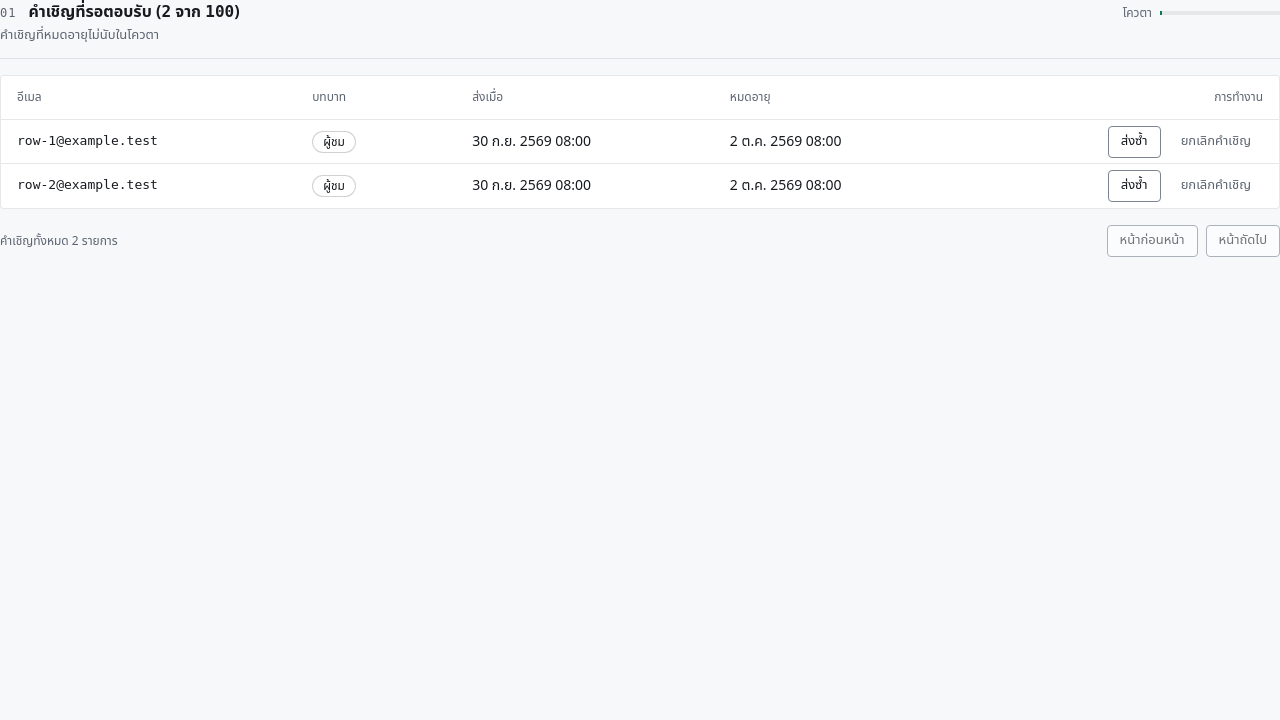
Scenario: invitation cancel › shows no success or notice when the DELETE succeeds and the refetch fails, and focuses the heading
Click the button "ยกเลิกคำเชิญ" in the row of "row-1@example.test": (1216, 142) [1169,126,1263,158]
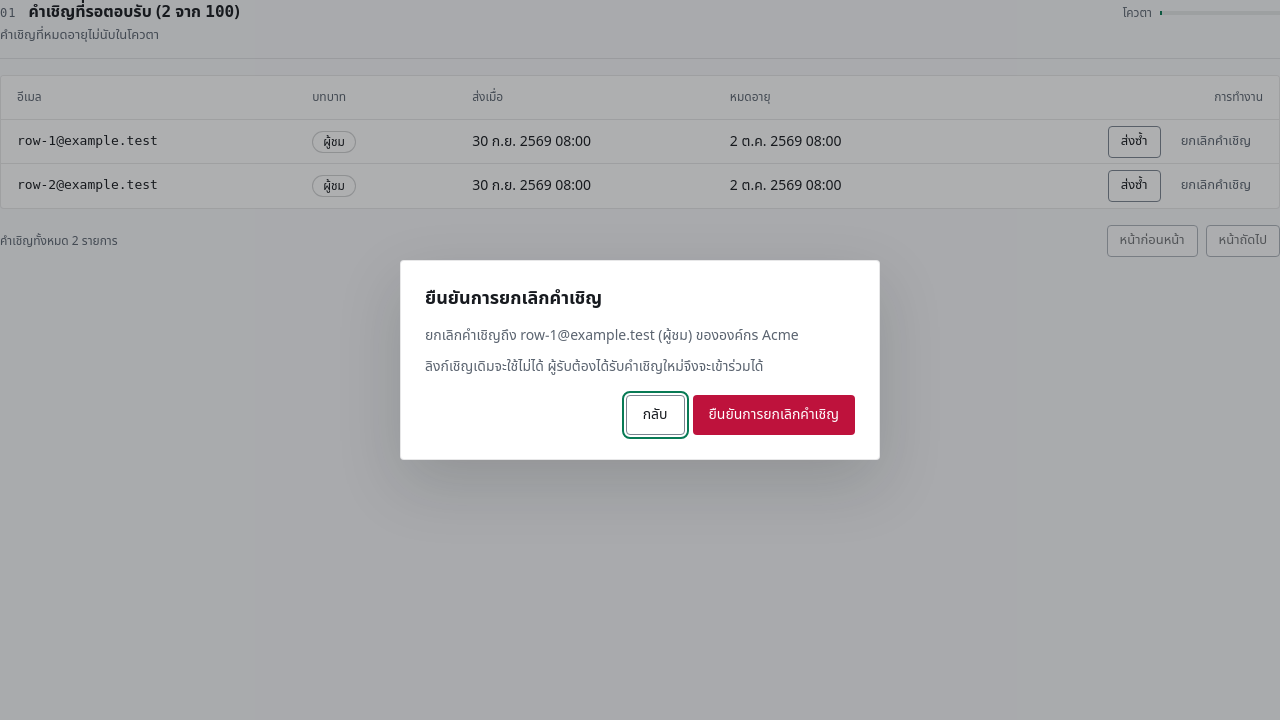
Click the button with test id "invitation-cancel-confirm": (774, 415) [692,395,855,435]
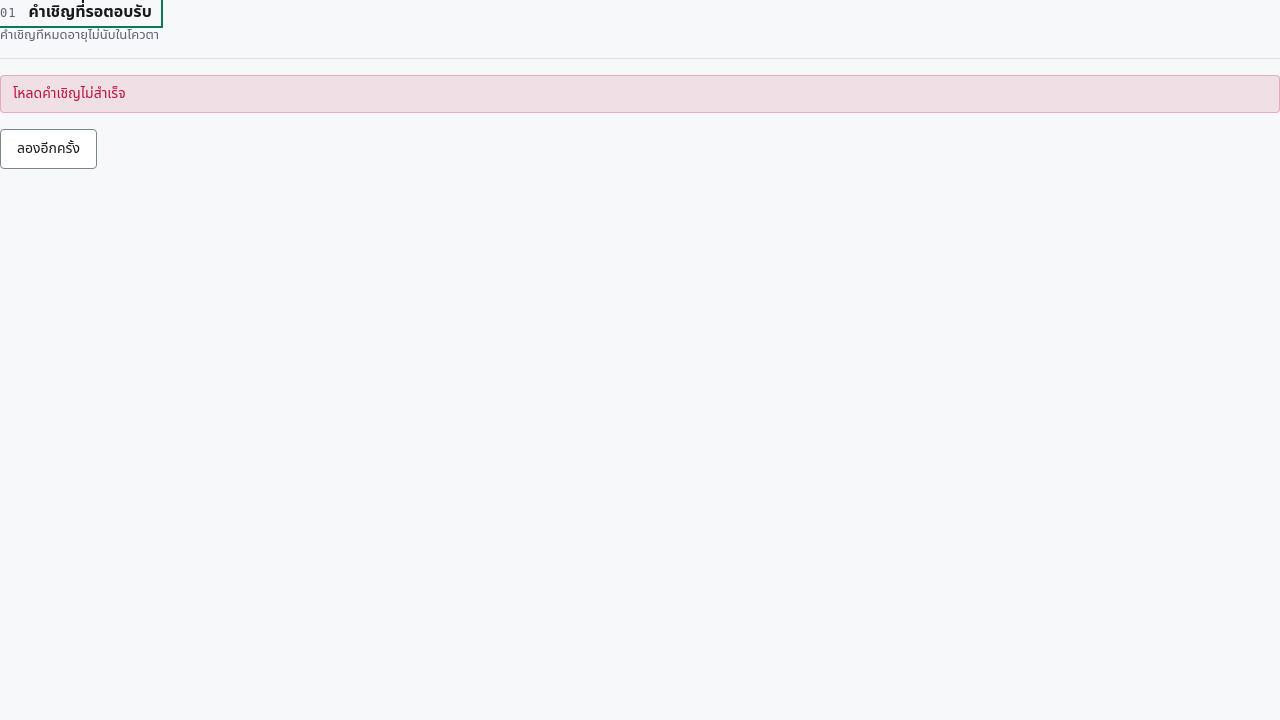
Now the message "โหลดคำเชิญไม่สำเร็จ" is shown, box [0,74,1279,112]
Now the button with test id "pending-invitations-retry" is shown, box [0,128,97,168]
